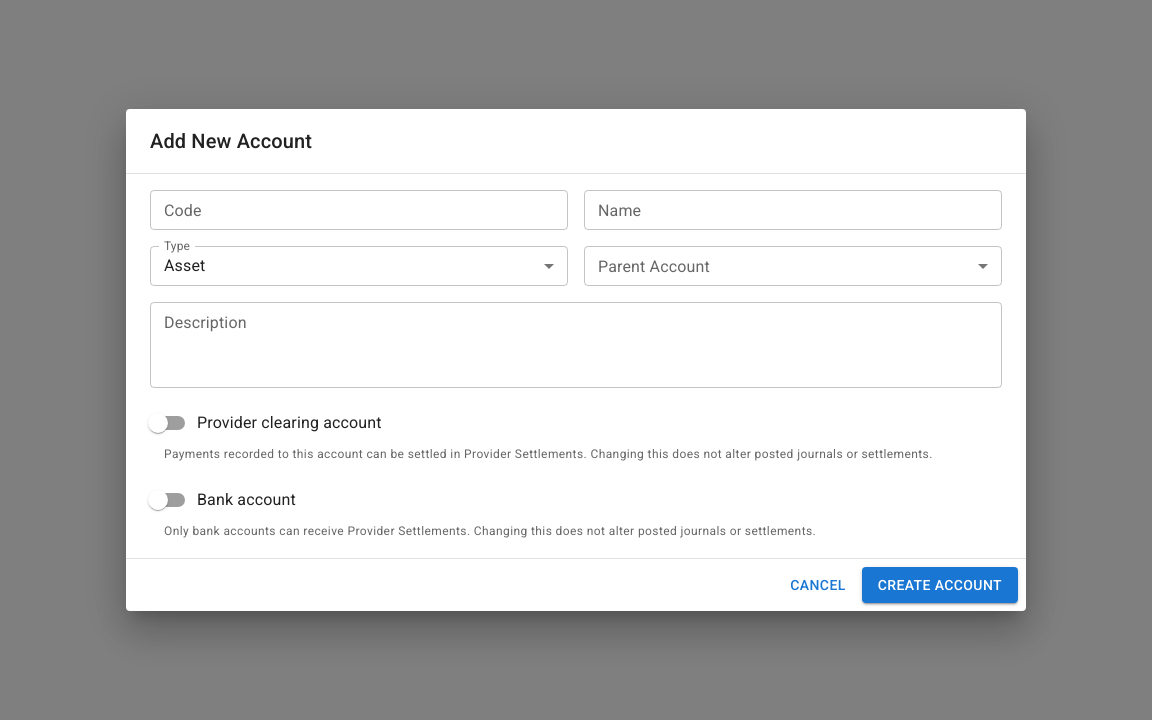
Test: AccountFormDialog › clears and disables the bank switch when Type changes away from Asset
The width and height of the screenshot is (1152, 720).
Click the switch labelled "Bank account". click: (222, 500)
box: [148, 490, 296, 510]
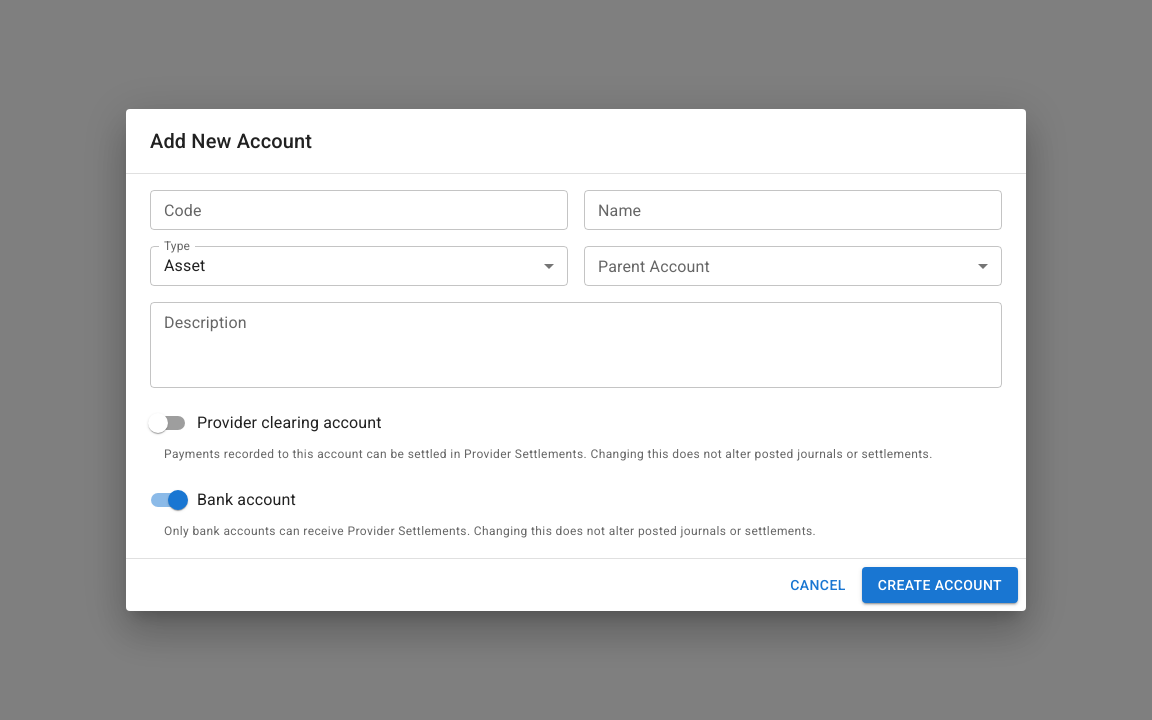
Click the dropdown named "Type". click: (185, 266)
box: [164, 256, 205, 275]
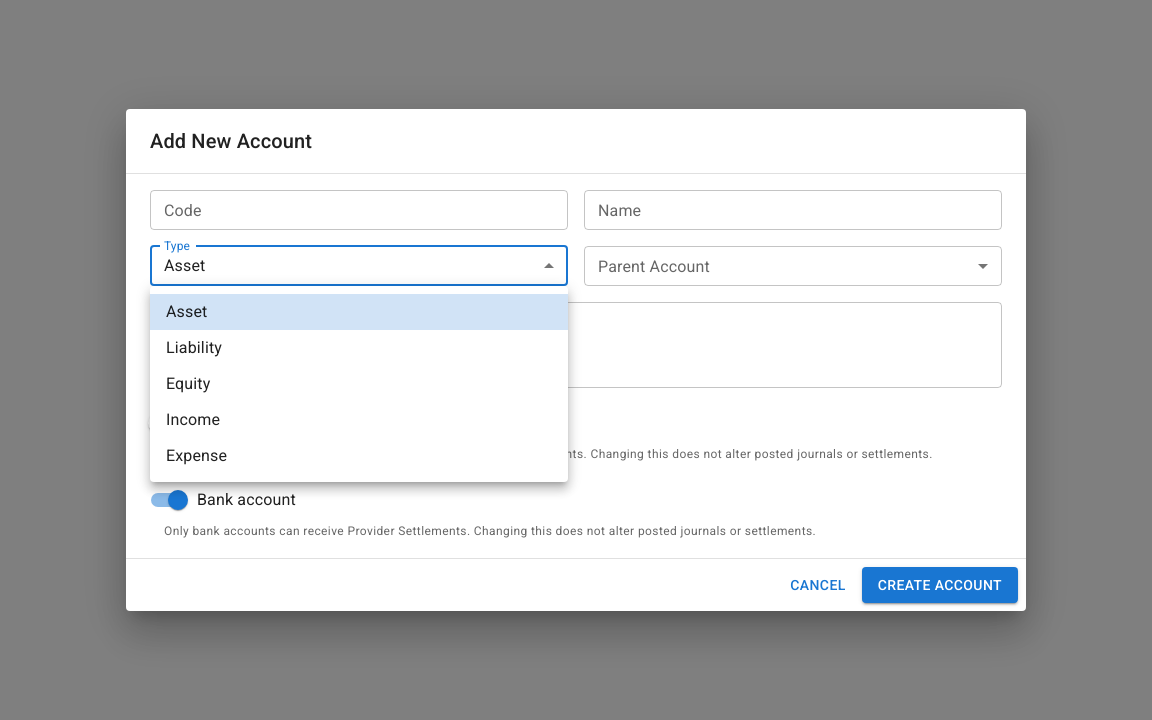
Click the option "Liability". click: (194, 348)
box: [166, 338, 222, 357]
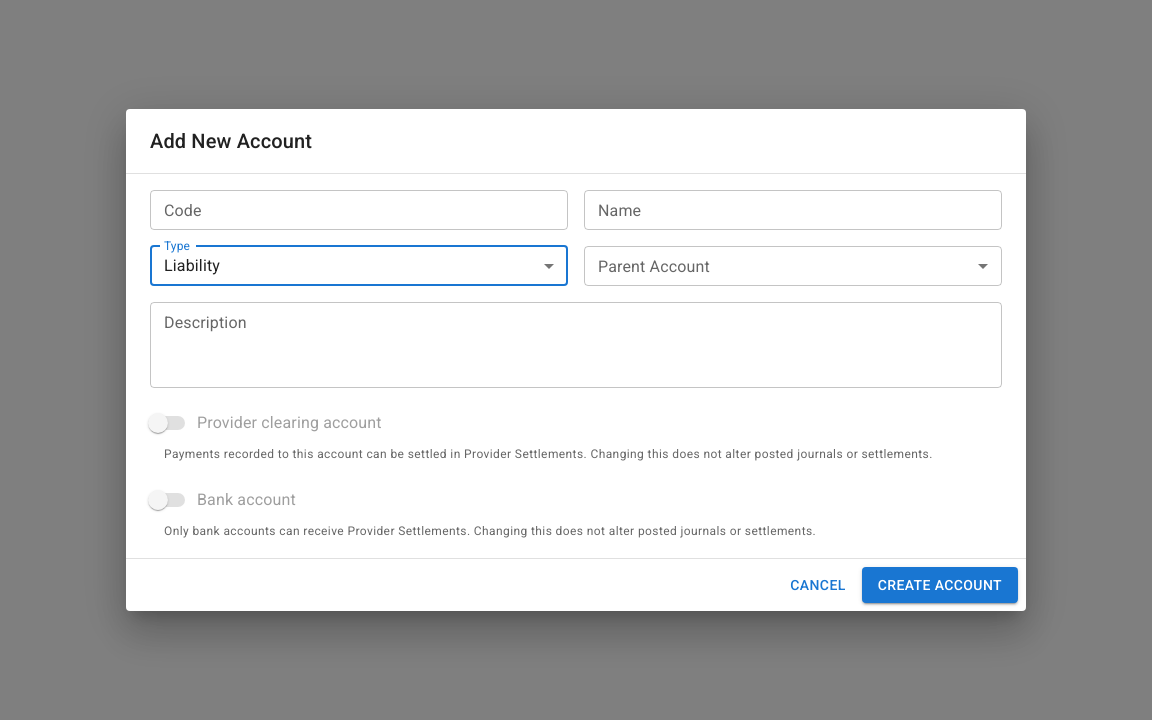
Expected: the switch labelled "Bank account" is not checked, [148, 490, 296, 510]
Expected: the switch labelled "Bank account" is disabled, [148, 490, 296, 510]
